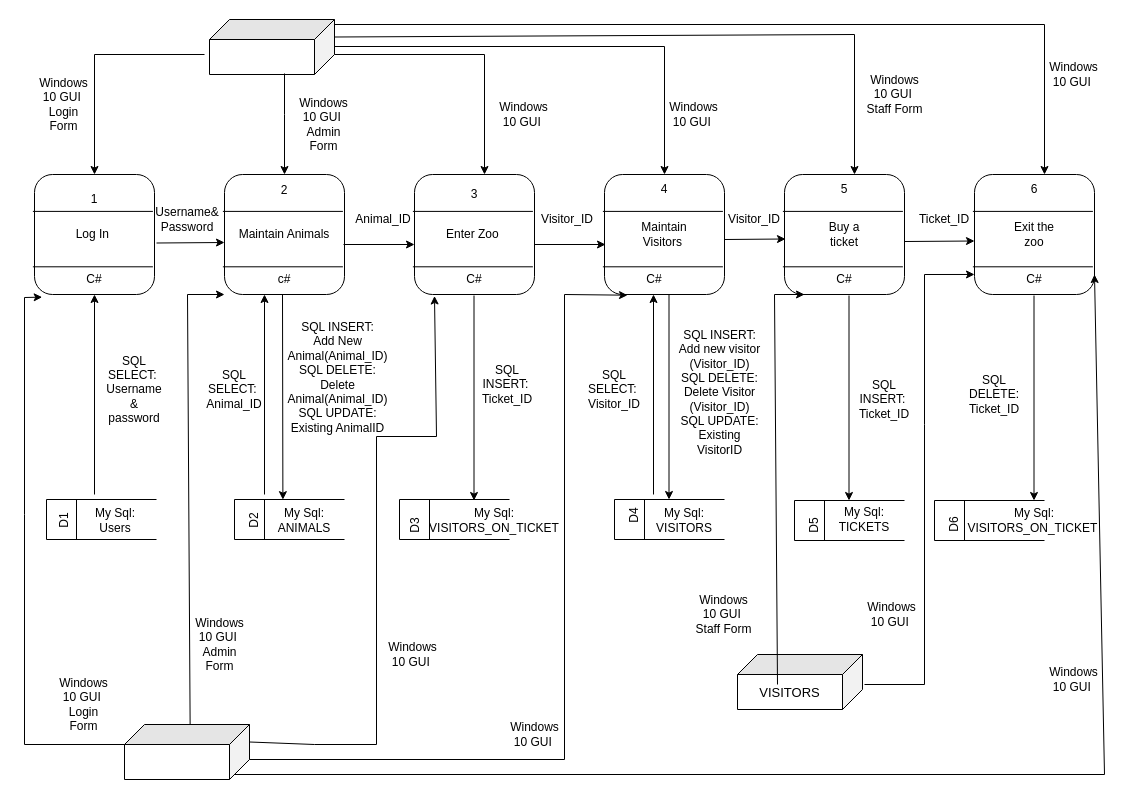
Some shapes in this 1130 by 800 pixel diagram are drawn without their labels. The shapes that lost their labels are listed below. From the top down, each one's centre as x and y in pixels, then its label:
At point (271, 46): "STAFF".
At point (187, 752): "ADMIN".
